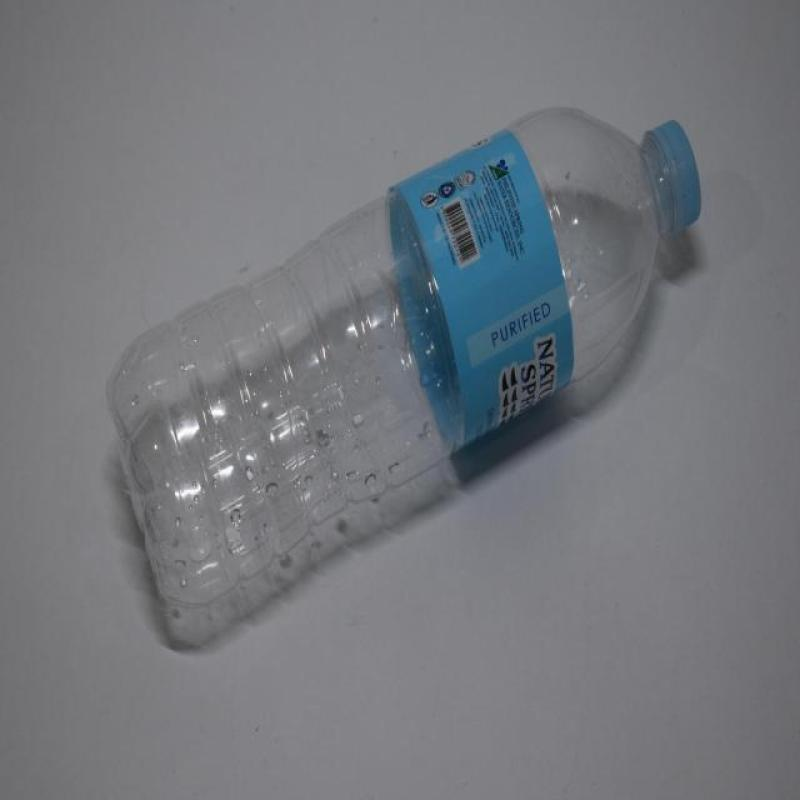botella: (106, 102, 700, 659)
